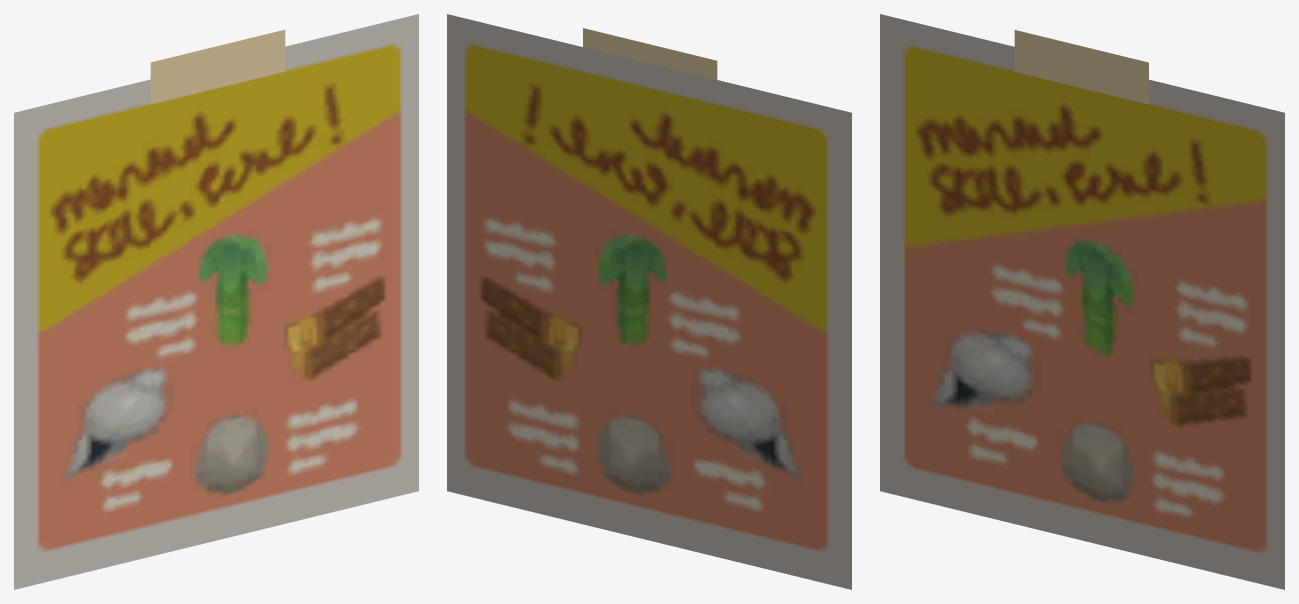
Rendered from Clipboard.glb.
3 renders of one model, left to right at view 1: azimuth 30°, elevation 25°; view 2: azimuth 150°, elevation 25°; view 3: azimuth 330°, elevation 25°, orthographic.
Parts seen in each view (by area): view 1: Clipboard; view 2: Clipboard; view 3: Clipboard.
Part boxes in pixels (<box>): Clipboard: <box>14,14,418,589</box>; Clipboard: <box>447,14,851,589</box>; Clipboard: <box>880,14,1284,589</box>.
Bounding box in the file's own units: 0.6632 × 0.7753 × 0.0031.
1 material, 1 textured.
